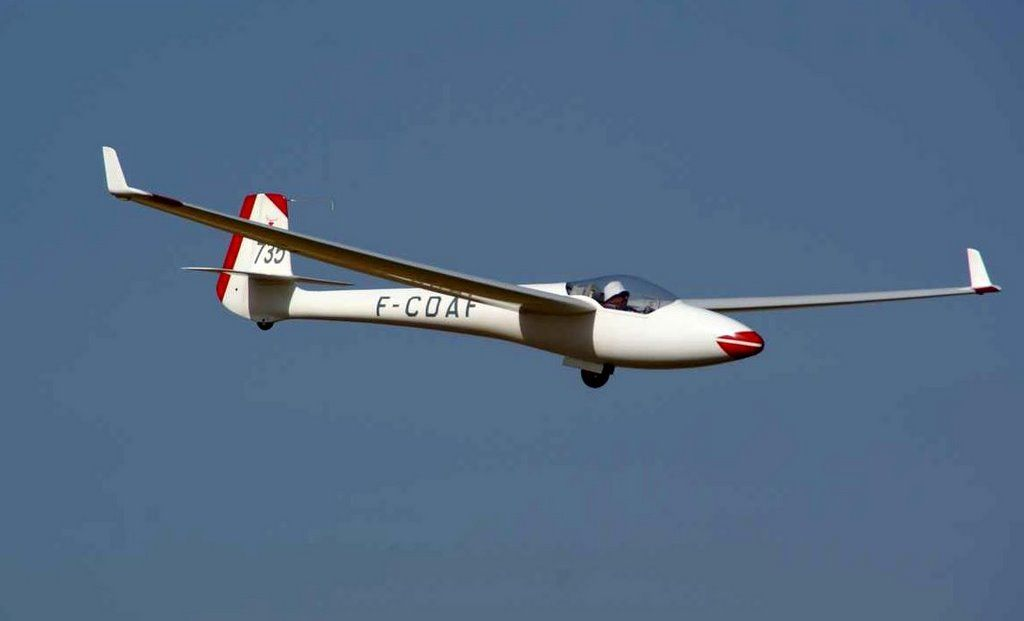Aeronef_de_loisir: (88, 135, 1009, 404)
